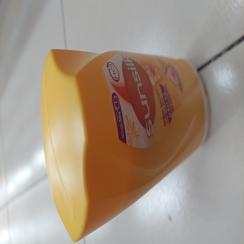sunsilk yellow: (41, 44, 211, 244)
